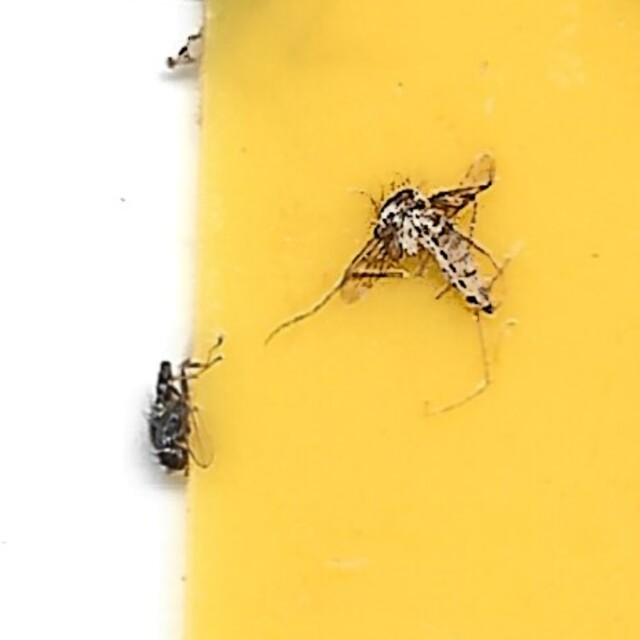Brachycera: (138, 347, 227, 482)
Nematocera: (334, 158, 502, 323)
